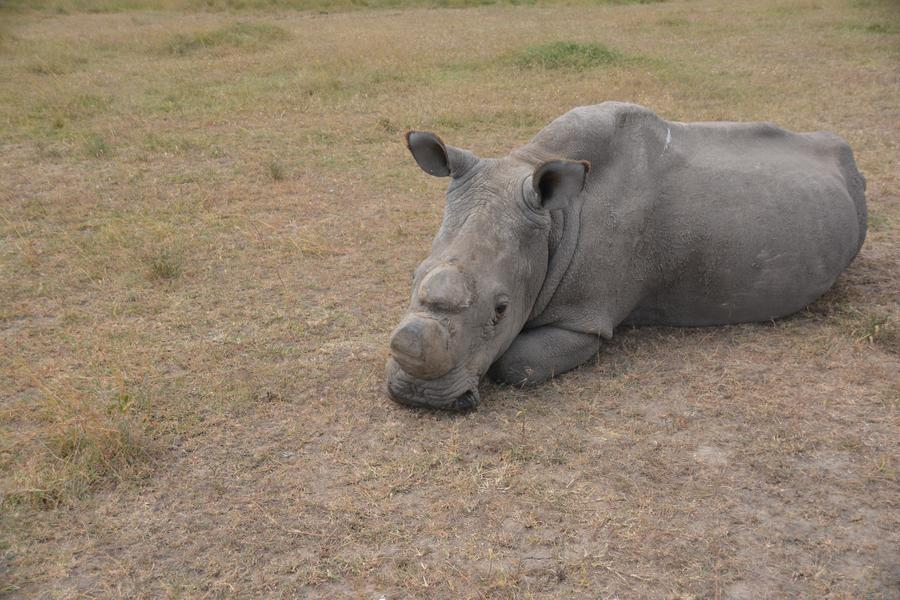rhino: (383, 84, 866, 402)
